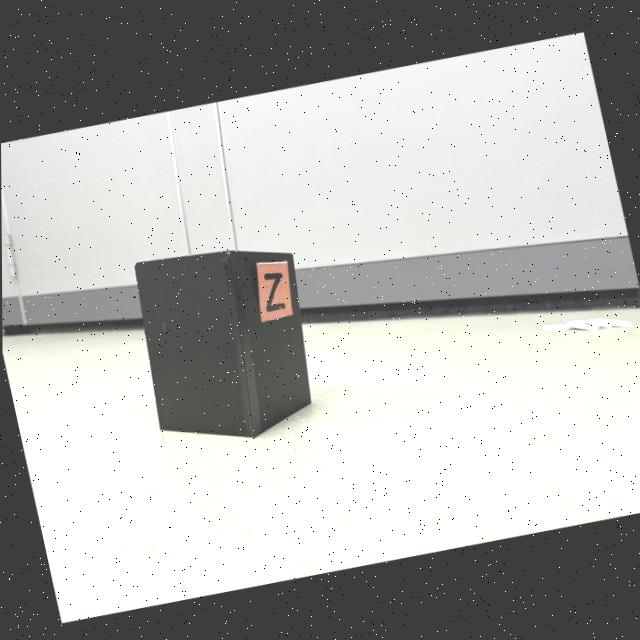Z: (263, 271, 285, 310)
